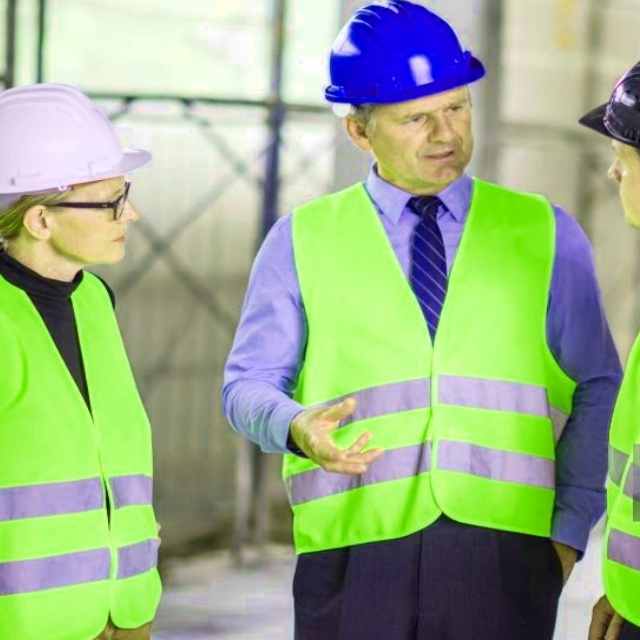Con_Casco: (328, 0, 491, 190), (0, 88, 152, 267)
Con_Chaleco: (263, 175, 585, 536), (0, 269, 159, 640)
